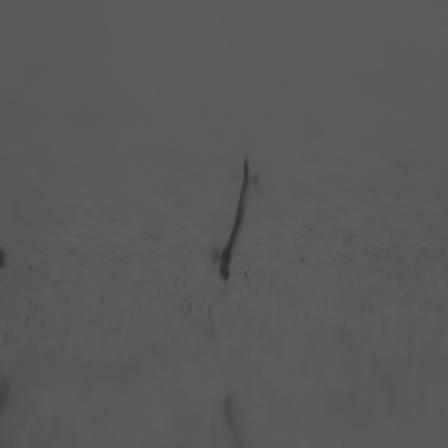Jentik-Nyamuk: (213, 152, 257, 289)
